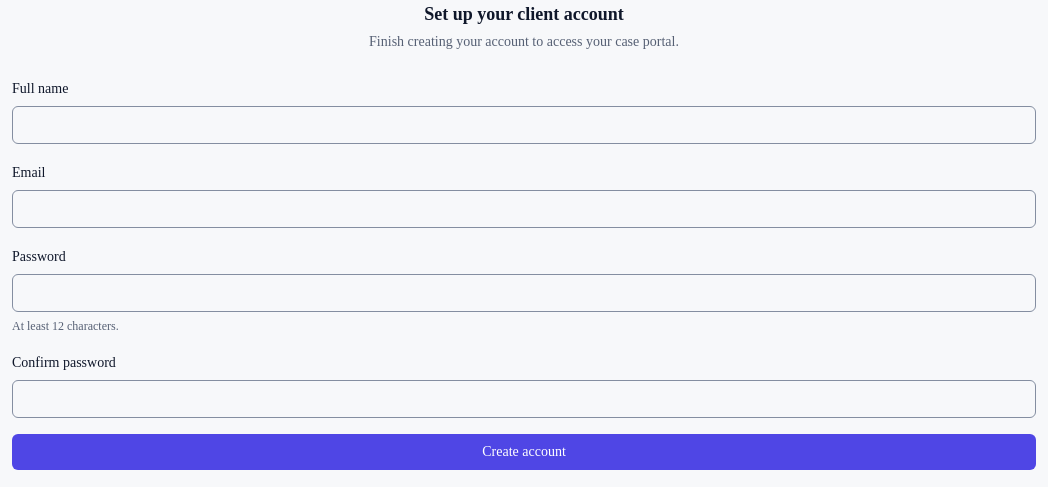
it: ClientSignUpForm behavior preserved › shows the check-your-email panel on success
The image size is (1048, 487).
Type "Test Client" into the field labelled "Full name" at (524, 125), box x1=12 y1=106 x2=1036 y2=144
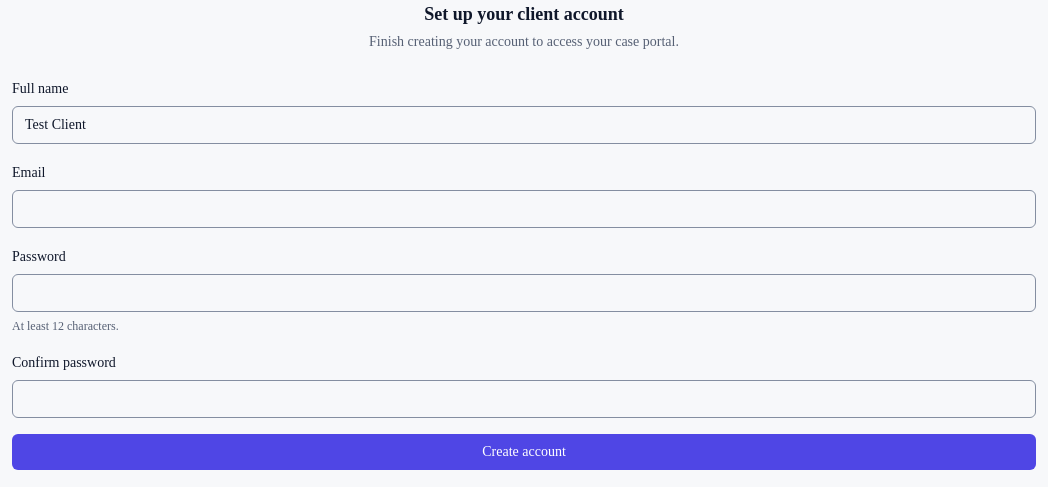
Type "client@example.com" into the field labelled "Email" at (524, 209), box x1=12 y1=190 x2=1036 y2=228
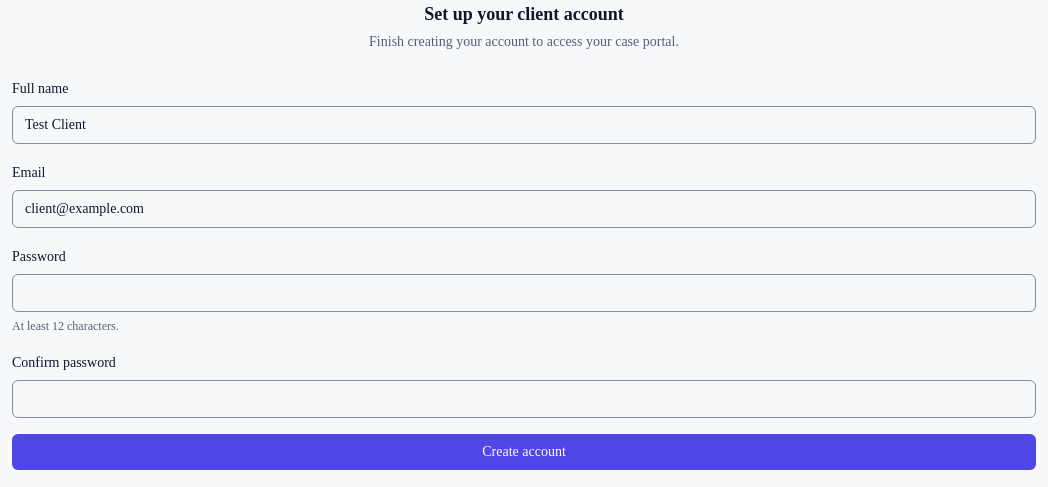
Type "a-long-enough-pass-1" into the password field labelled "Password" at (524, 293), box x1=12 y1=274 x2=1036 y2=312
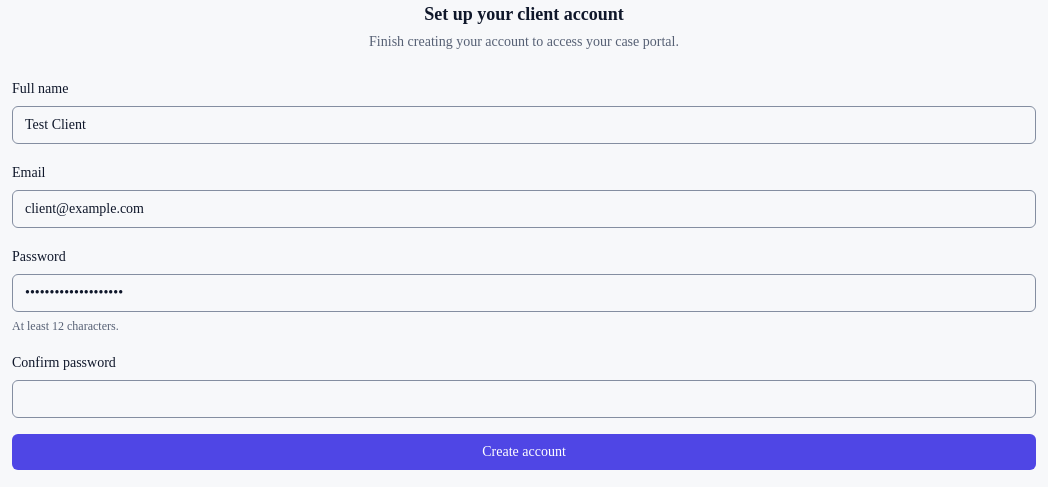
Type "a-long-enough-pass-1" into the password field labelled "Confirm password" at (524, 399), box x1=12 y1=380 x2=1036 y2=418
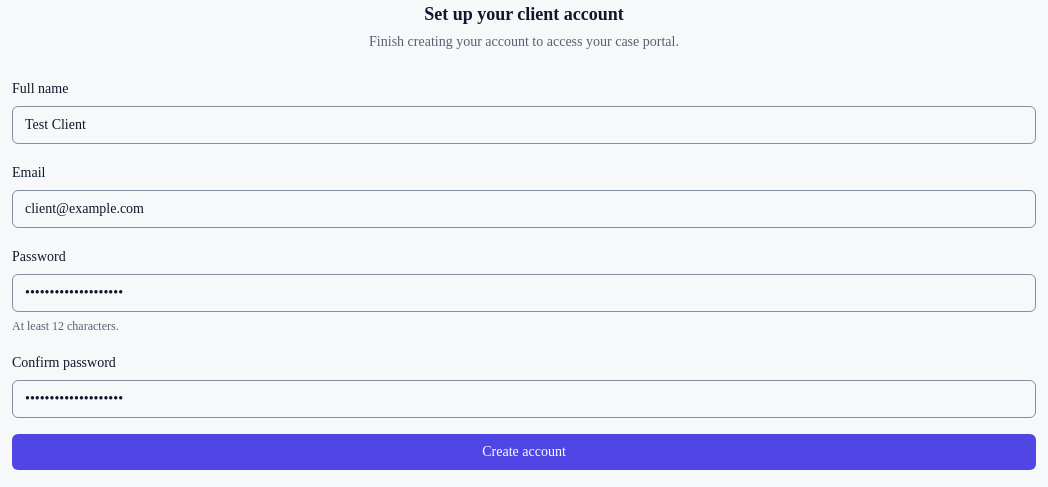
Click the button "Create account" at (524, 452), box x1=12 y1=434 x2=1036 y2=470
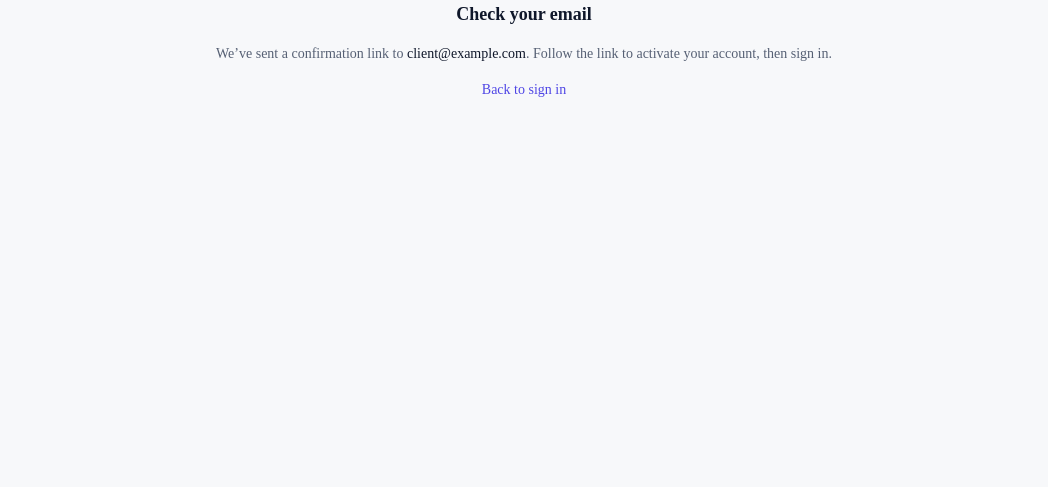
Expected: the heading "Check your email" is shown, x1=456 y1=4 x2=592 y2=24
